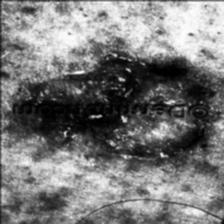Potentially Malignant Skin Tumors: (34, 52, 137, 104)
